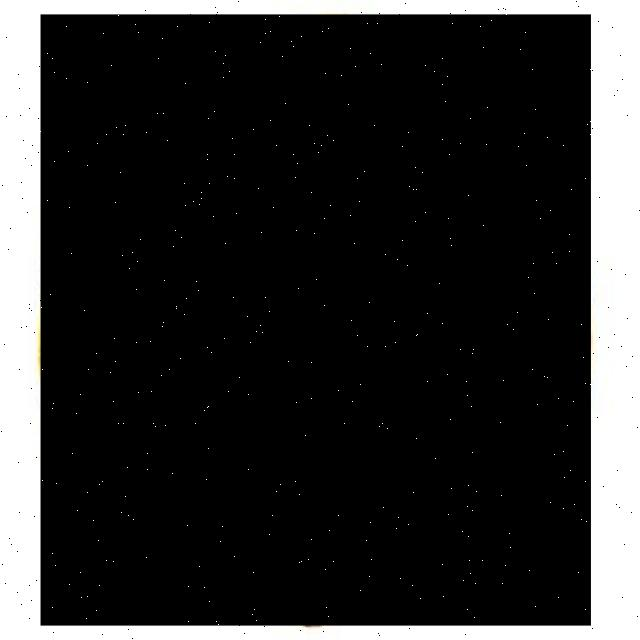Lemon: (41, 14, 591, 626)
